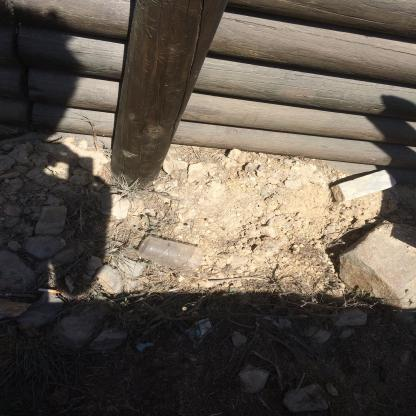plastik: (138, 237, 205, 277)
